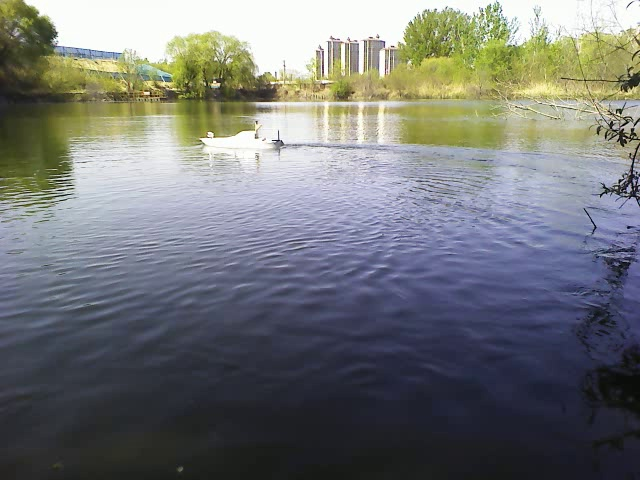boat: (200, 122, 290, 152)
